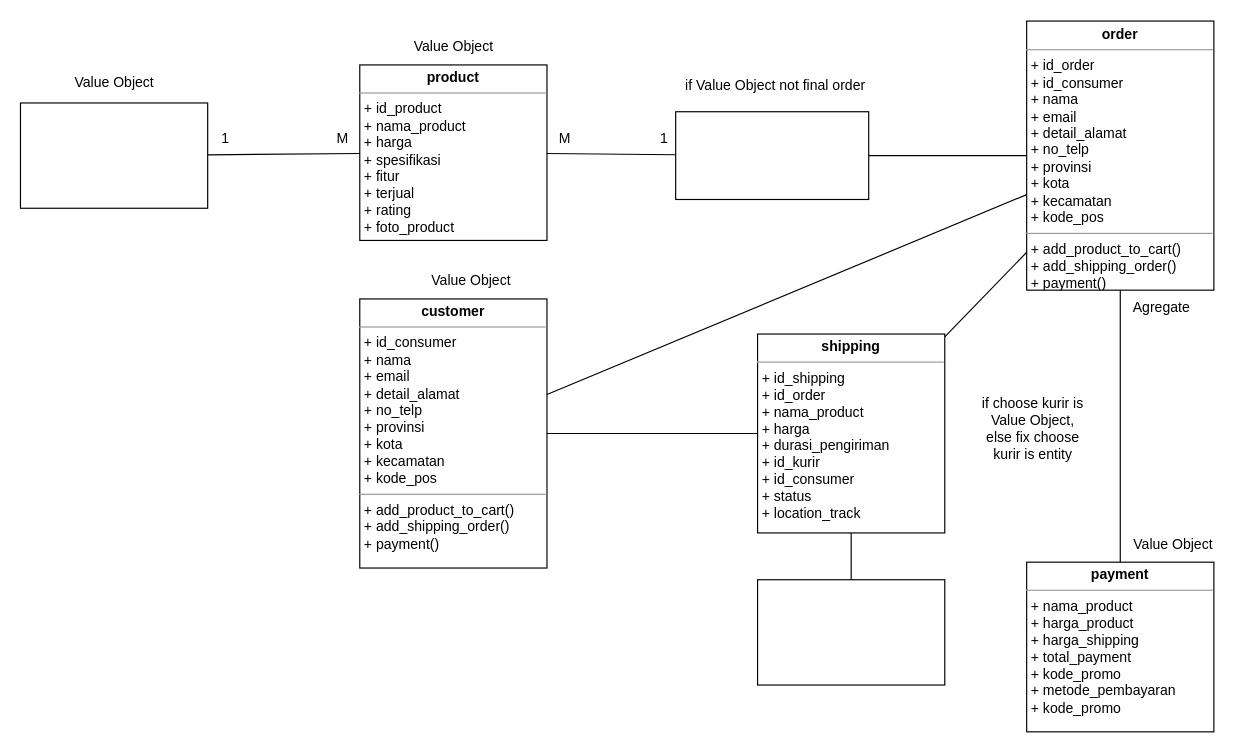
This 1246x752 diagram has some shape labels left out. Each missing label, with the centre of its shape:
"cart + id_product + harga_product + total_harga" belongs at point (772, 155).
"courier + id_kurir + name + location_track + durasi_pengiriman" belongs at point (850, 632).
"inventory + list_product + id_product + product_stock + imei + stock_product" belongs at point (113, 155).
